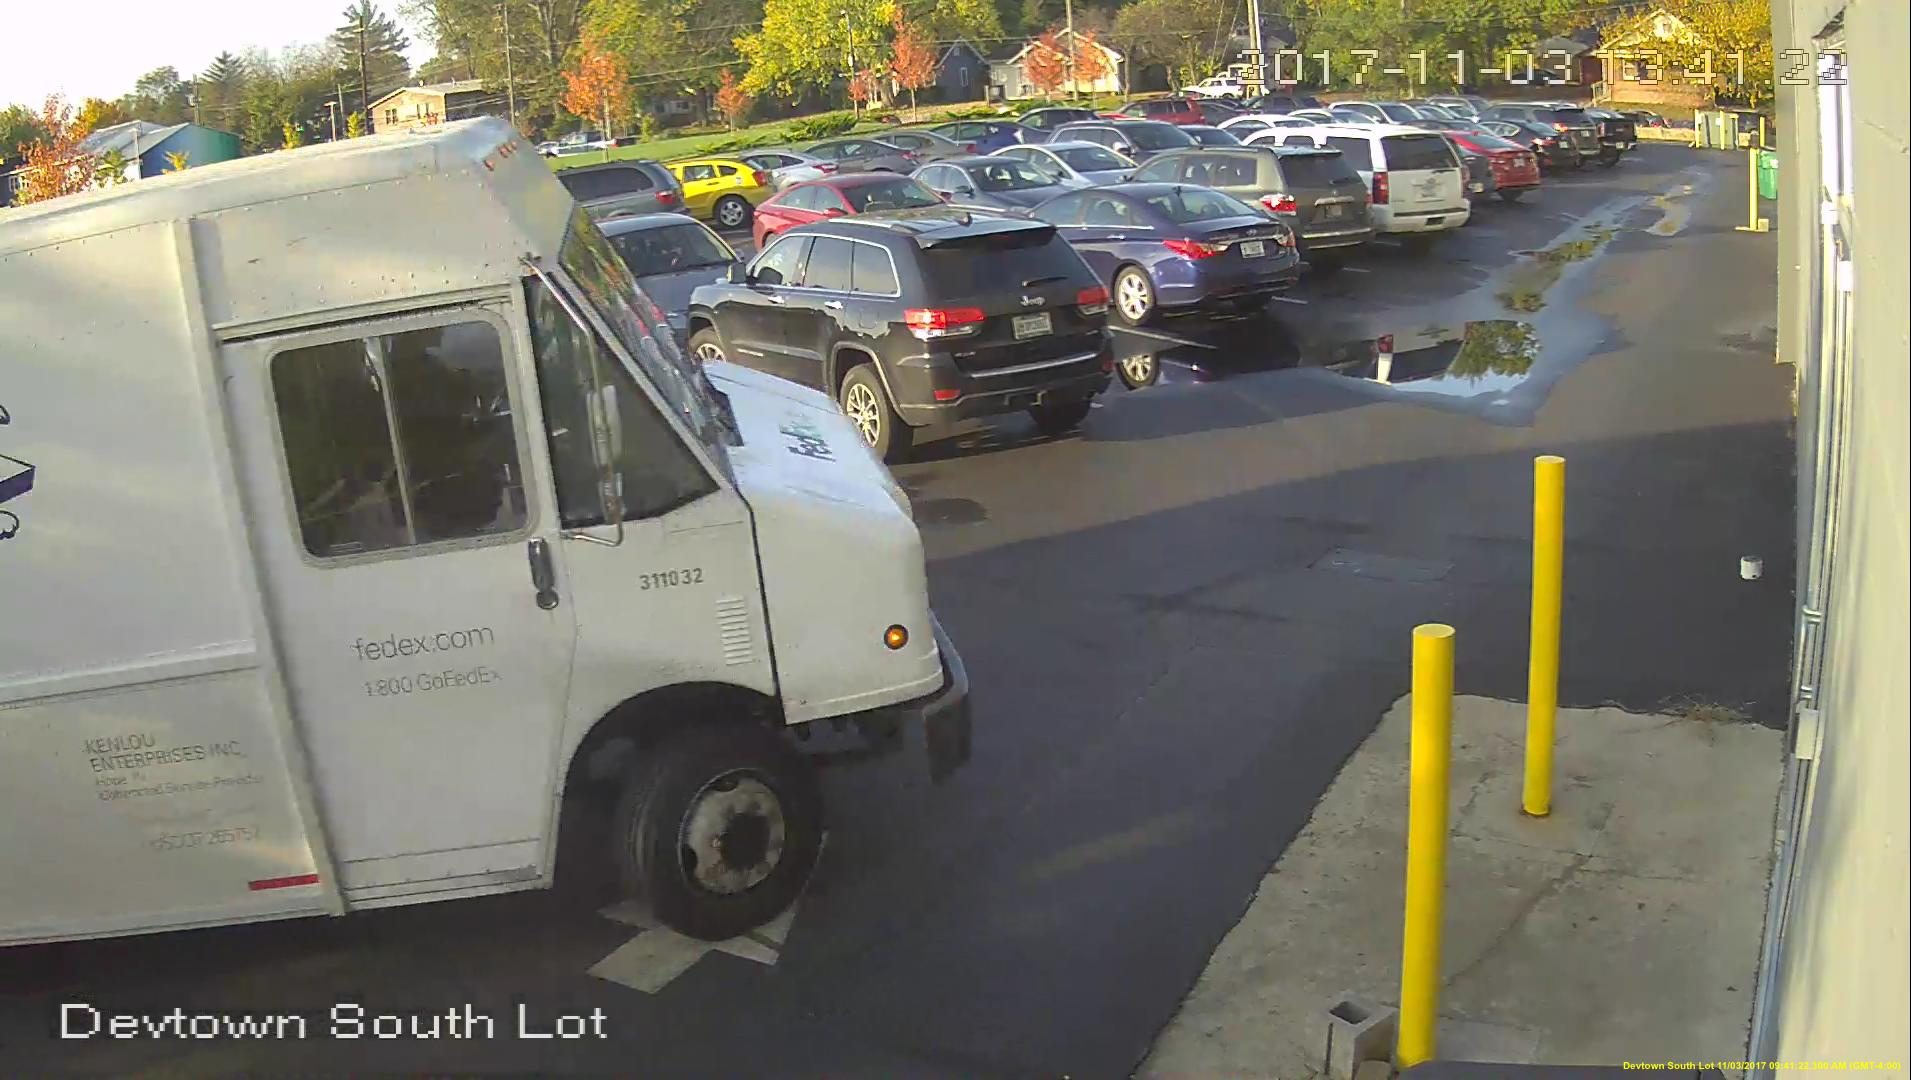fedex_truck: (1, 113, 976, 954)
